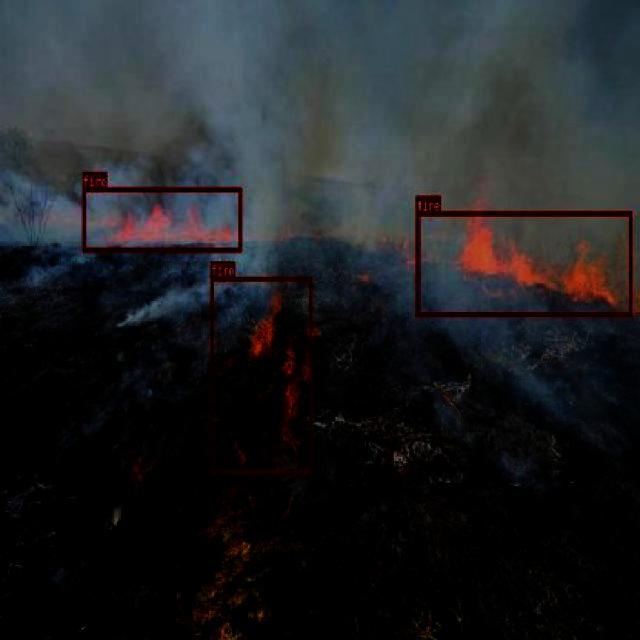fire: (415, 211, 631, 315), (210, 276, 312, 473), (82, 186, 241, 252)
